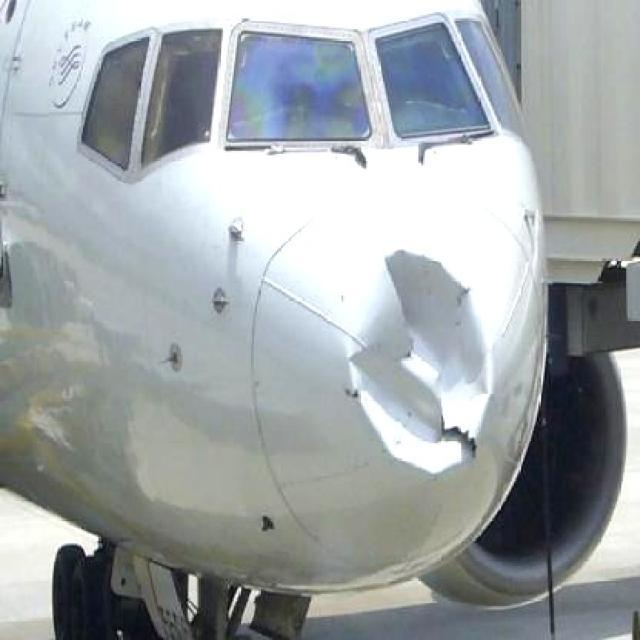dent: (346, 250, 494, 476)
